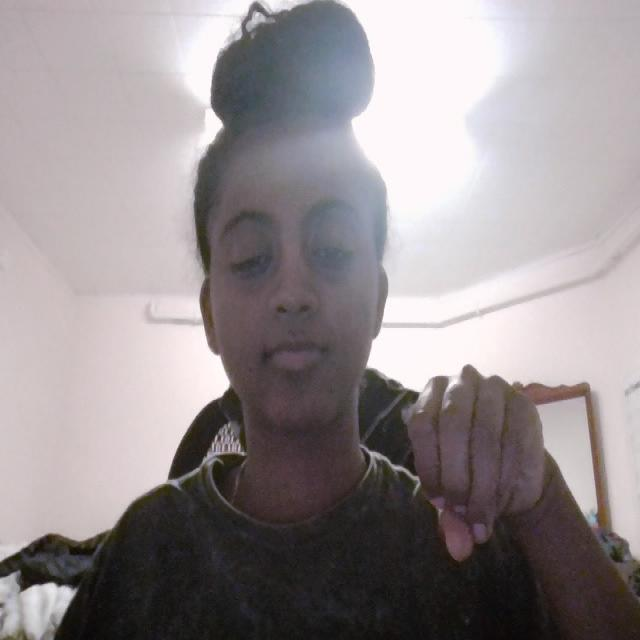Yes: (402, 328, 594, 572)
